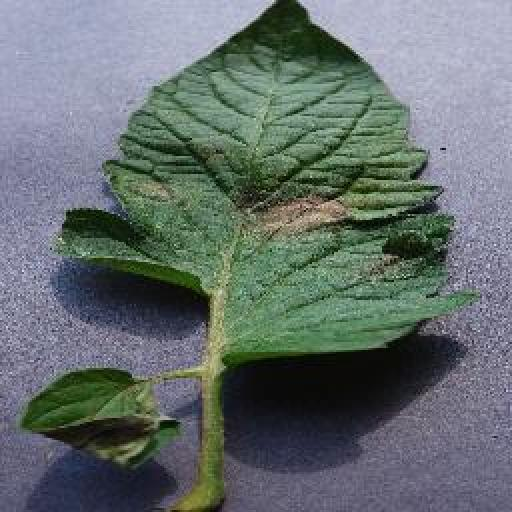disease_tomato: (52, 0, 483, 364), (17, 360, 187, 468)
